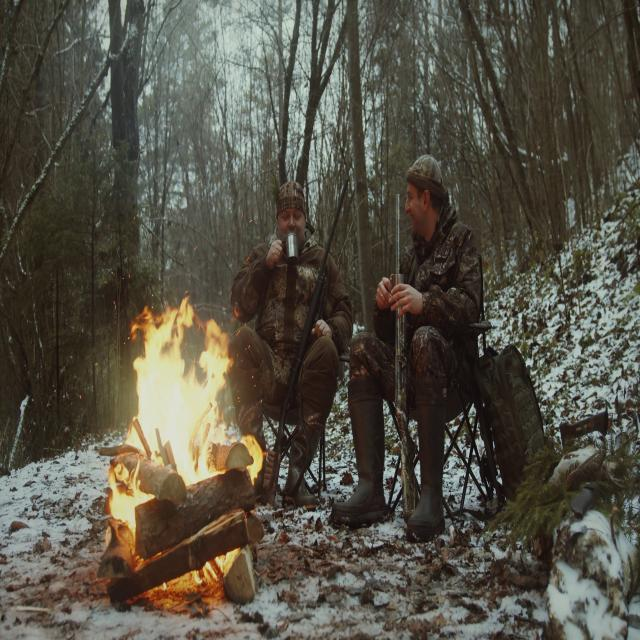Fire: (103, 291, 269, 577)
